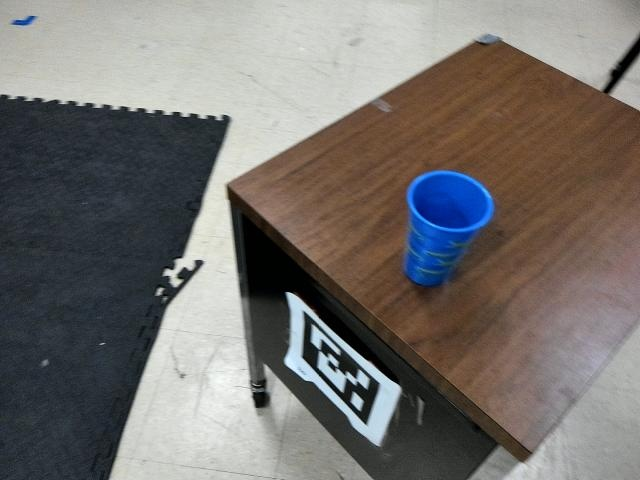water_cup: (392, 162, 501, 299)
